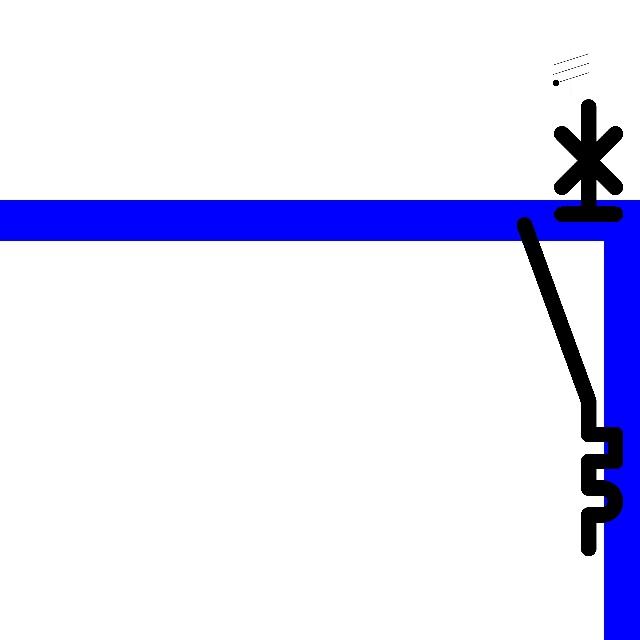interruptor_termomagnetico: (513, 95, 627, 560)
